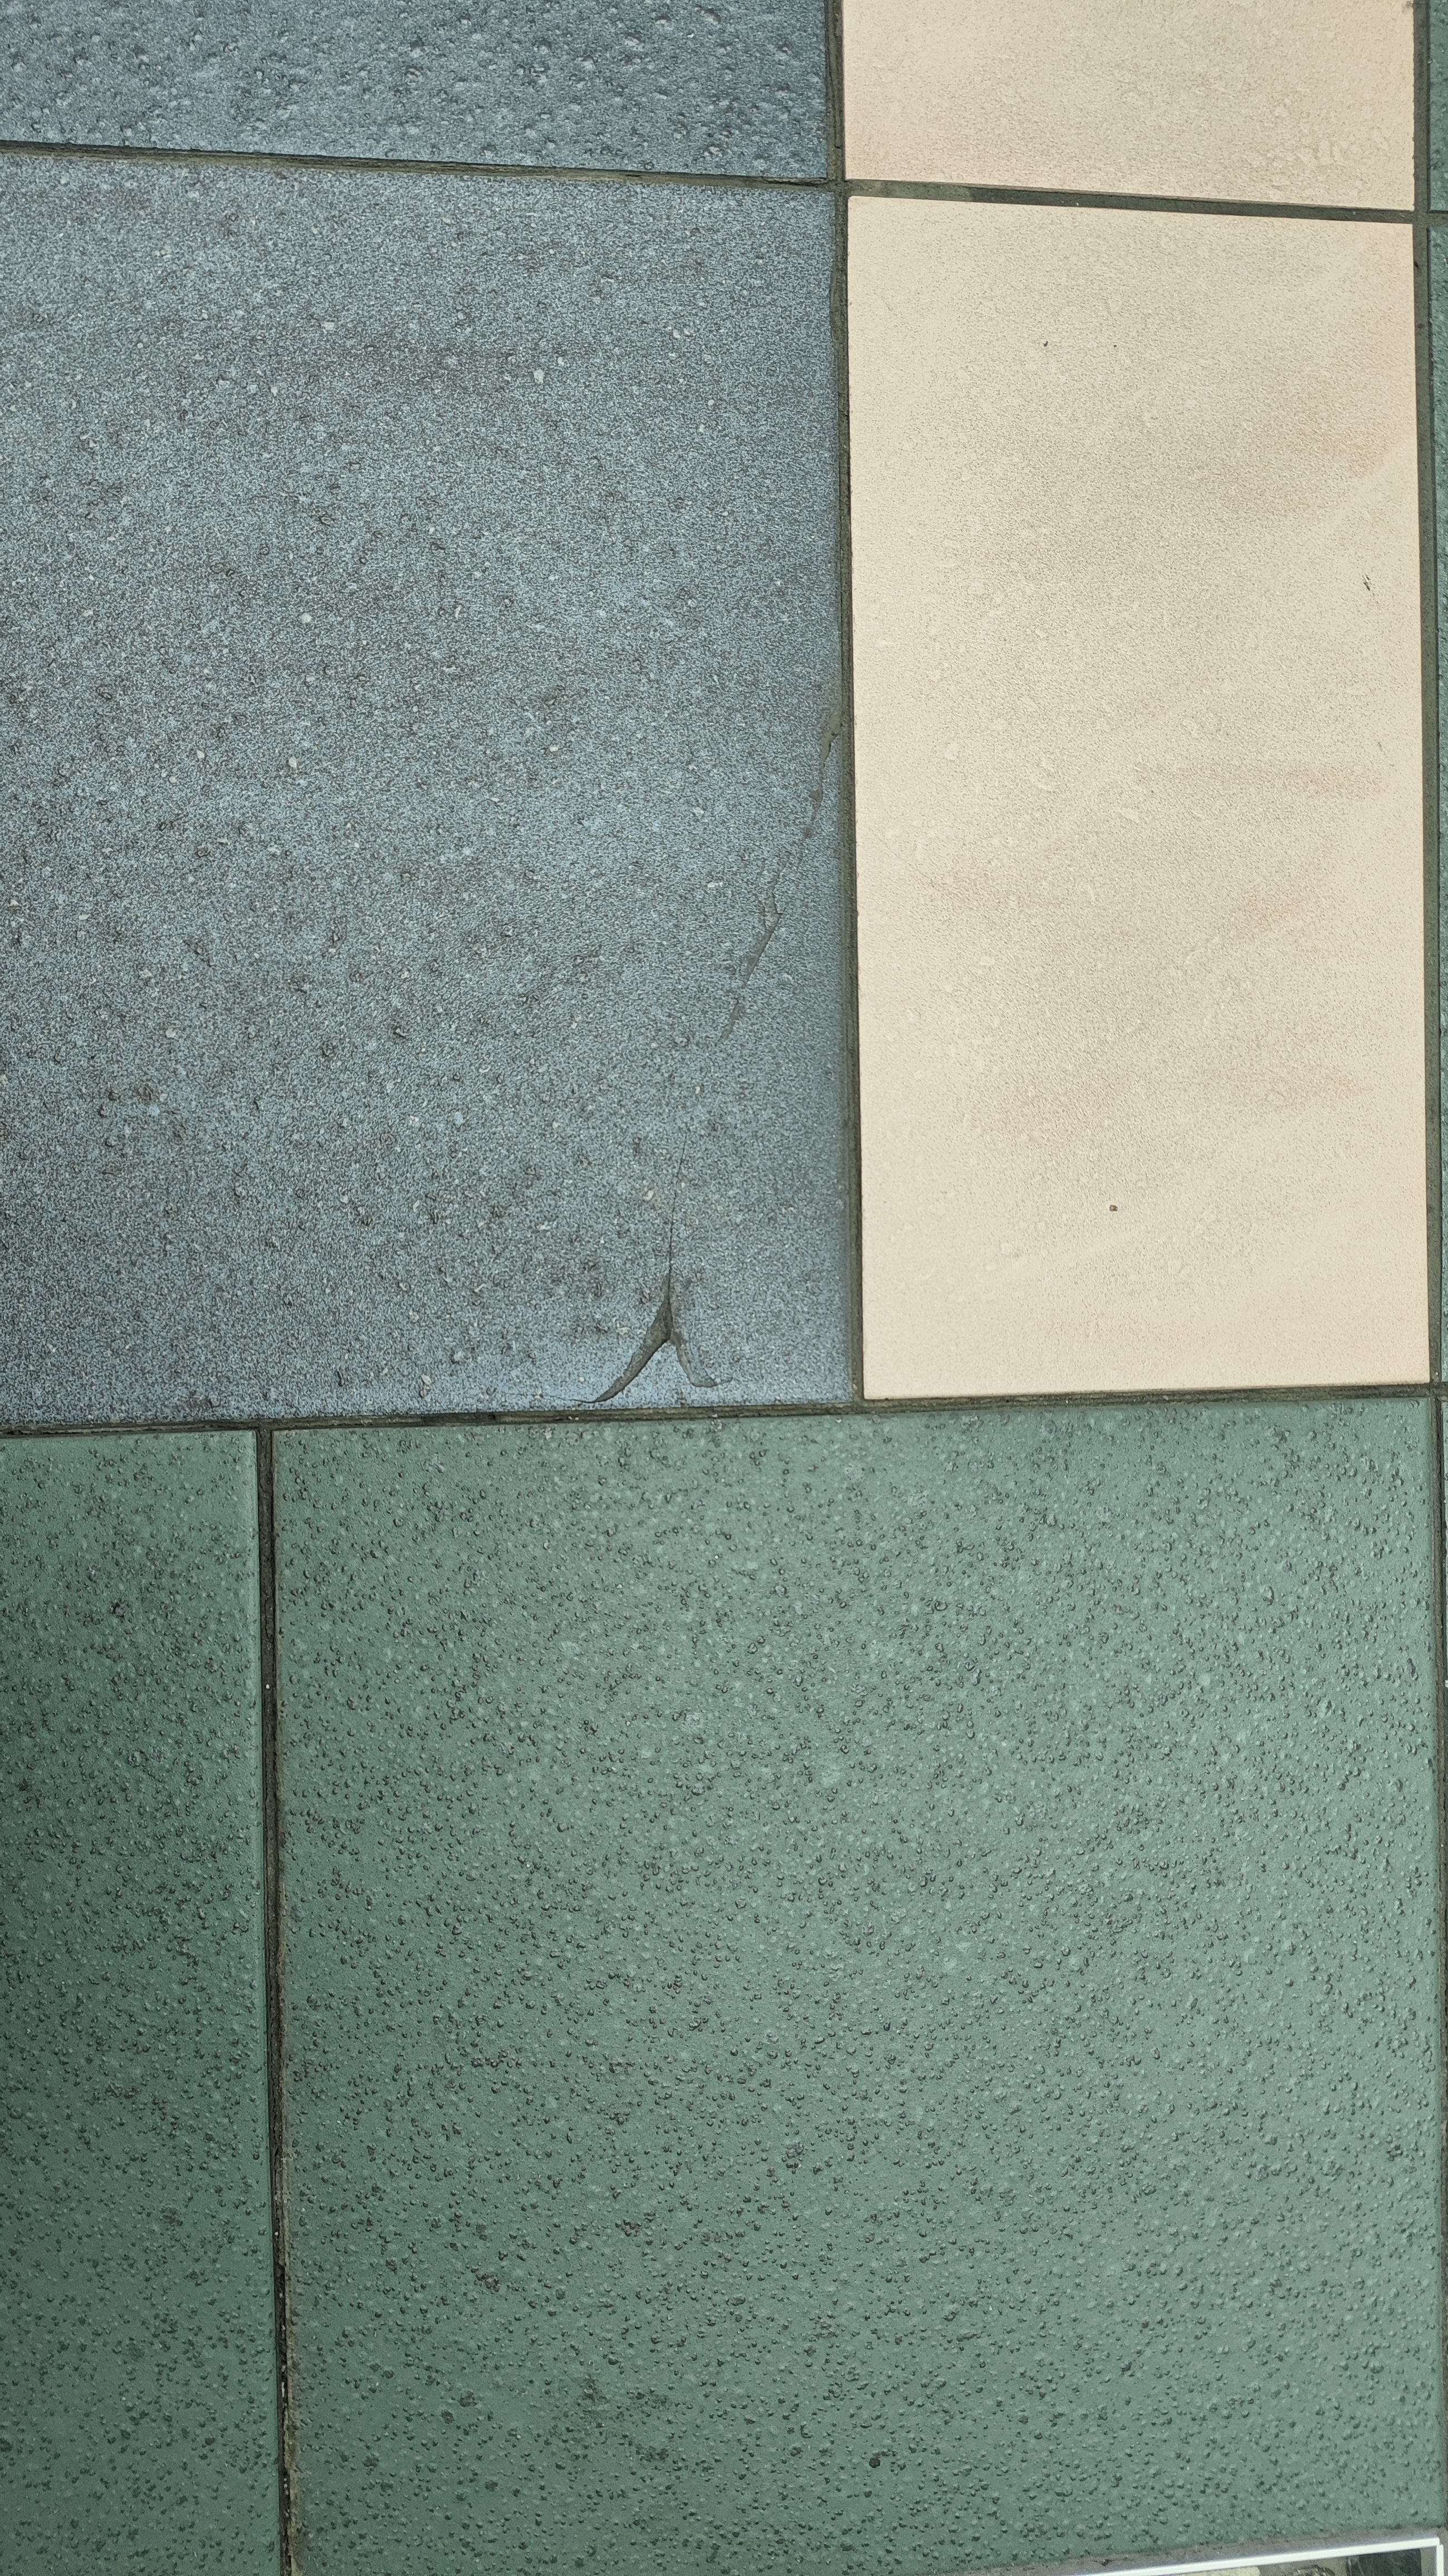Defect: (698, 692, 843, 1054), (591, 1123, 735, 1408)
